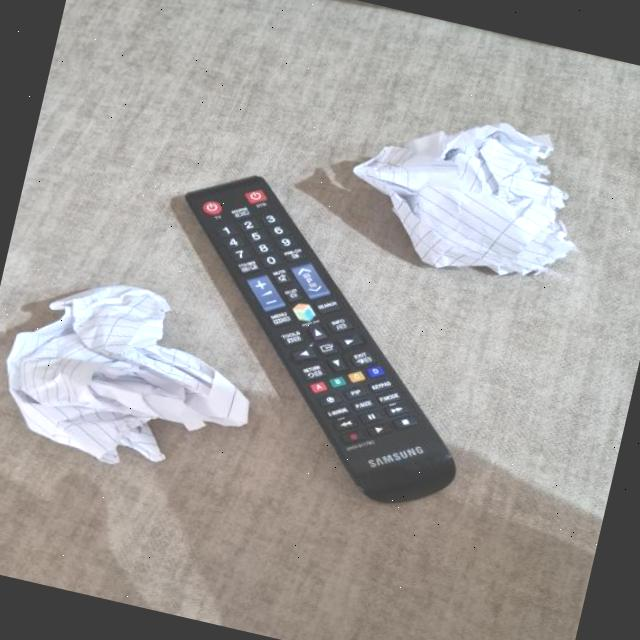trash: (0, 263, 275, 502), (328, 95, 595, 298)
